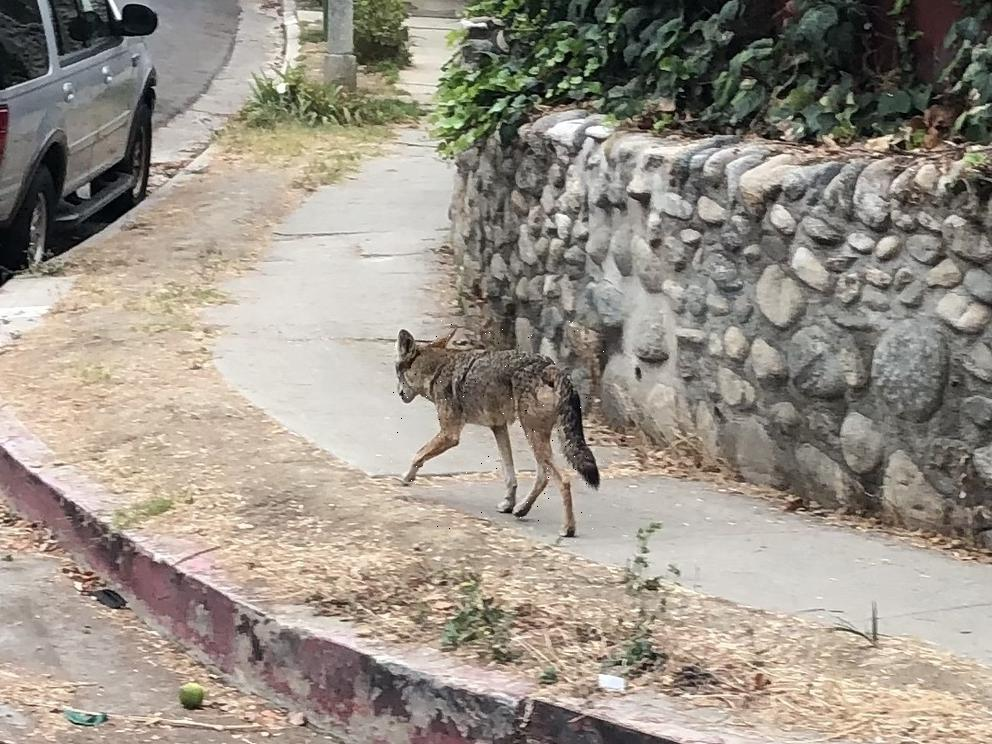Coyote: (390, 319, 606, 542)
